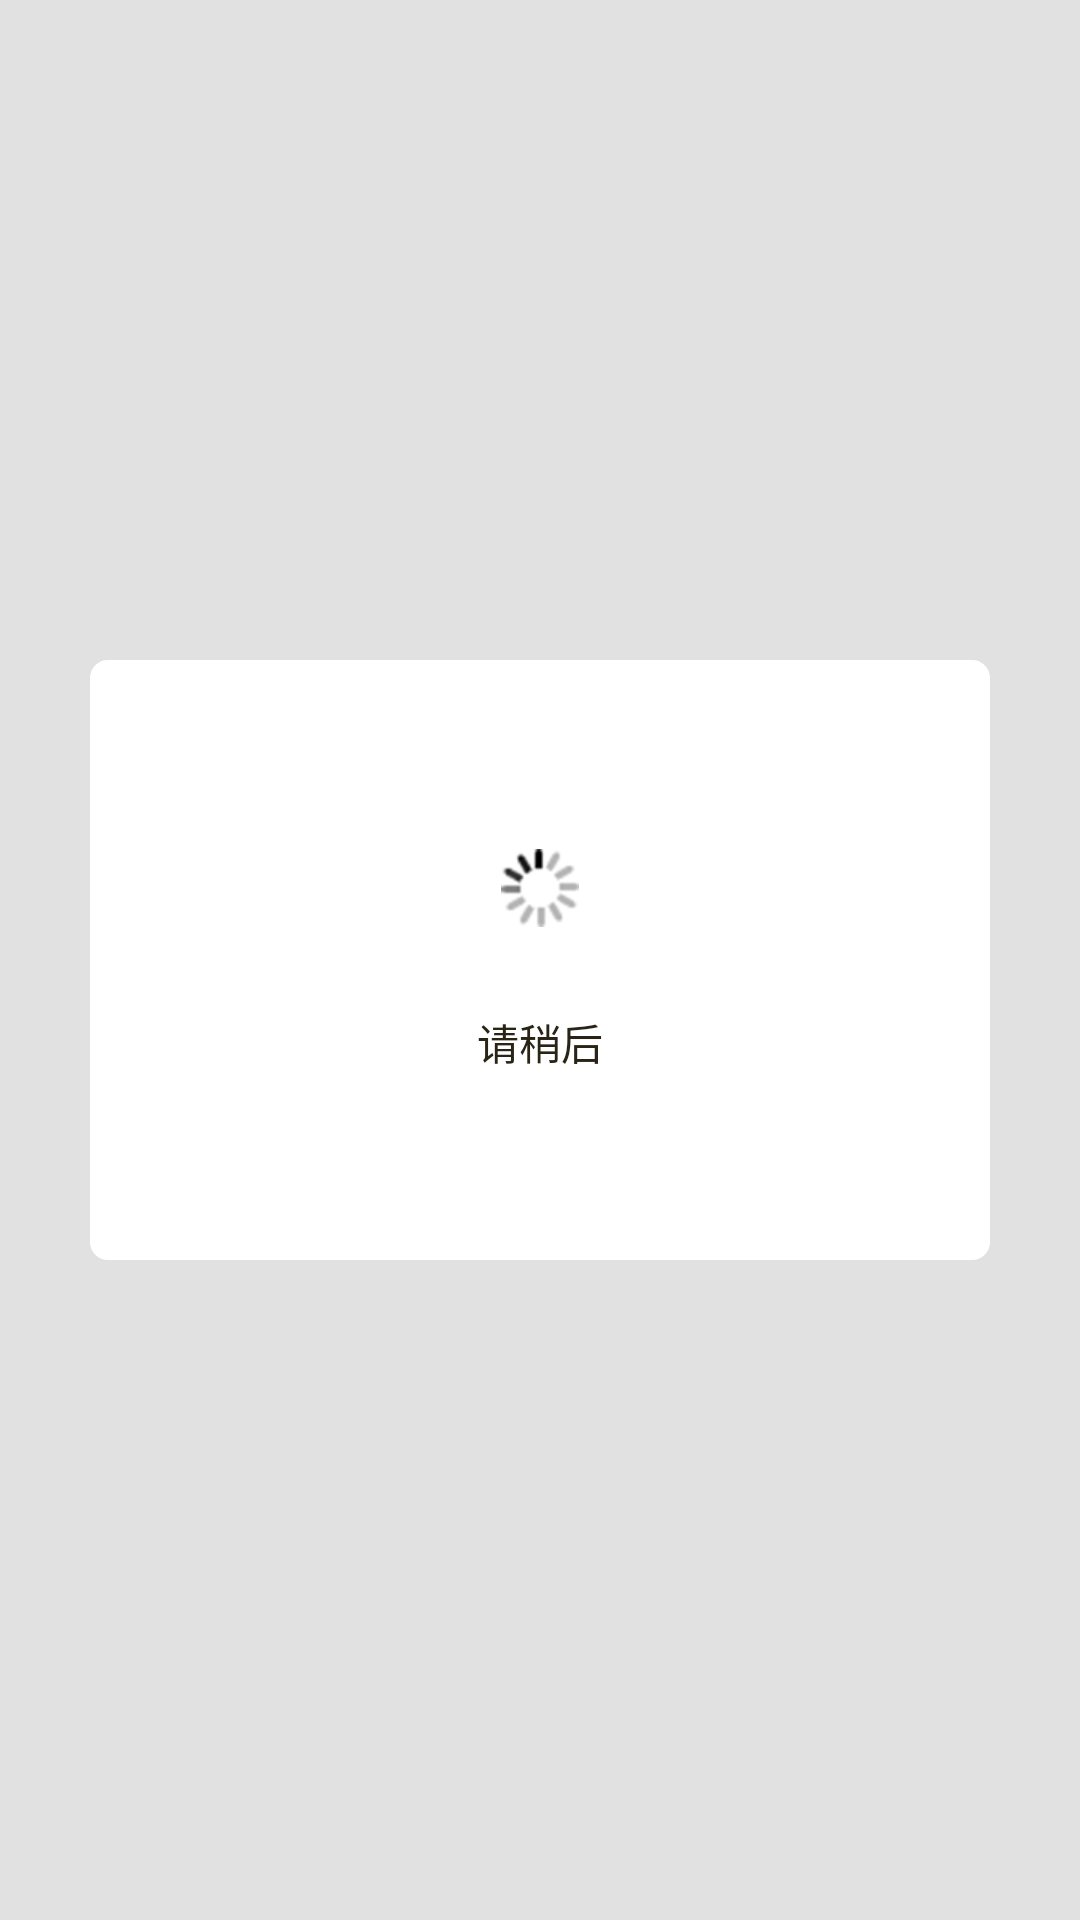

Icon bounding boxes for this 1080 x 1920 phone screenshot, format (x1, y1, x2, y2):
loading: (501, 849, 579, 927)
